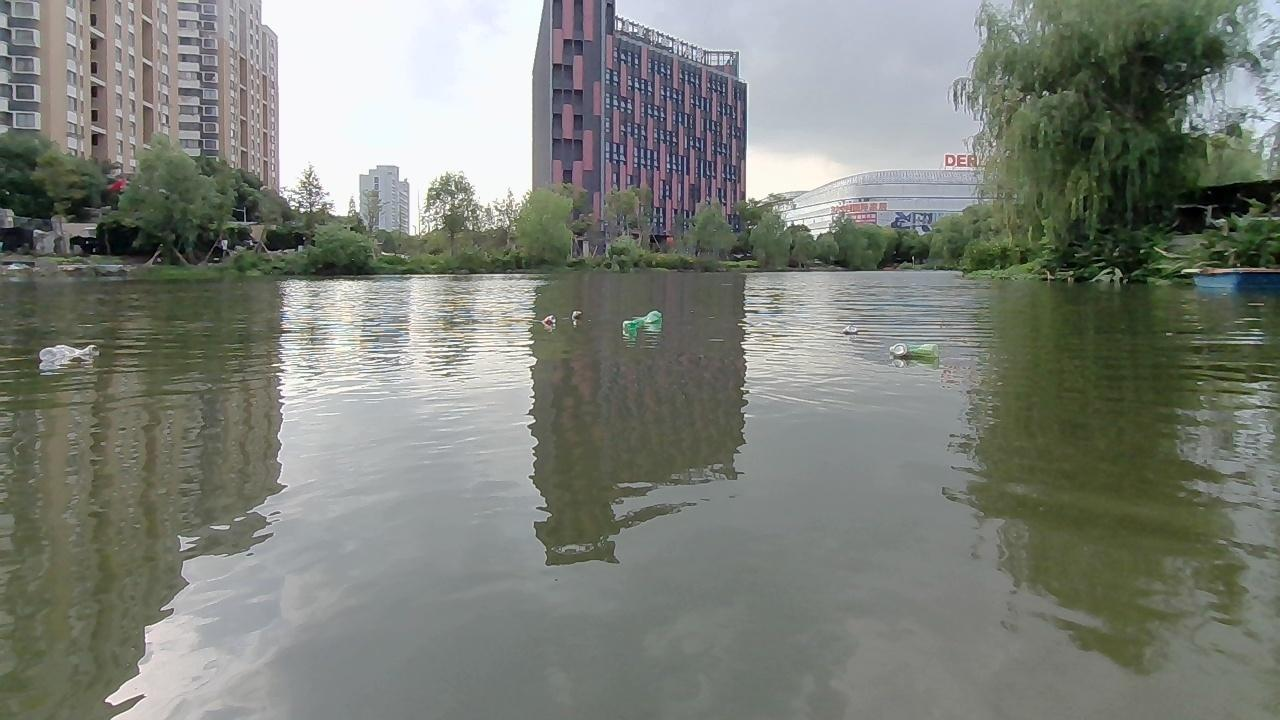bottle: (33, 342, 100, 366), (886, 337, 941, 361), (618, 307, 665, 332), (571, 307, 582, 323), (539, 315, 556, 325), (843, 323, 852, 328)
